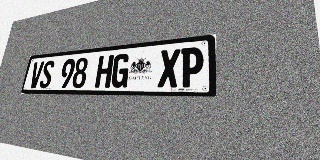8: (71, 57, 89, 88)
9: (58, 58, 76, 88)
G: (110, 53, 131, 88)
H: (94, 55, 114, 88)
P: (179, 46, 204, 87)
S: (39, 60, 55, 88)
V: (28, 61, 44, 88)
X: (157, 49, 181, 88)
